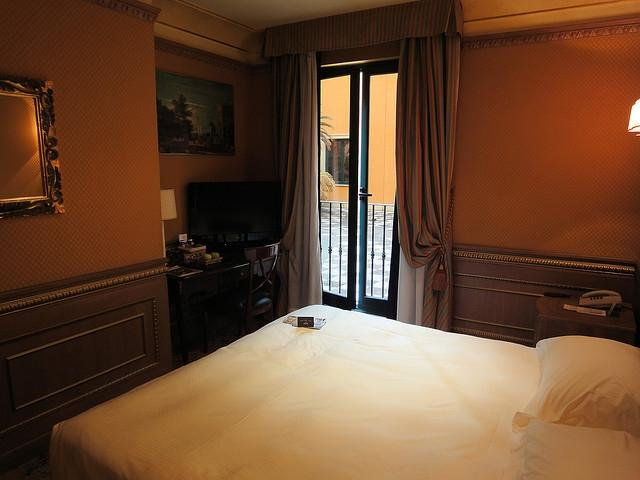apple: (202, 253, 212, 260), (209, 252, 219, 258)
